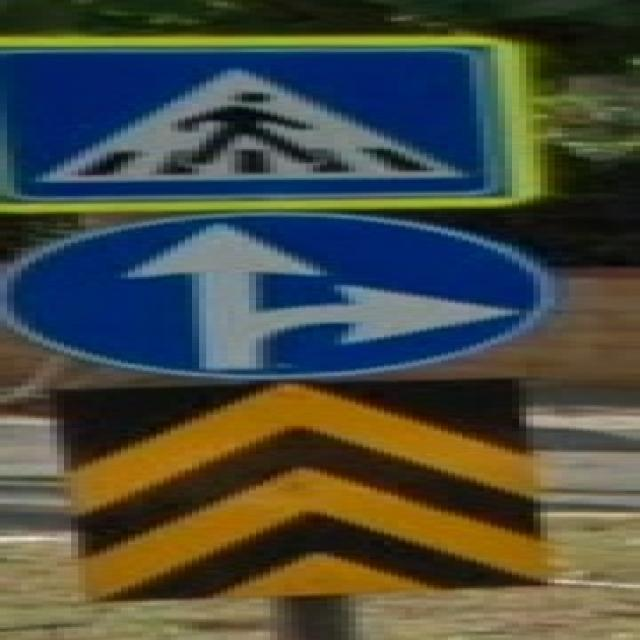Straight or Right: (8, 215, 549, 375)
